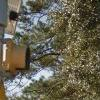Tree: (40, 8, 100, 100)
